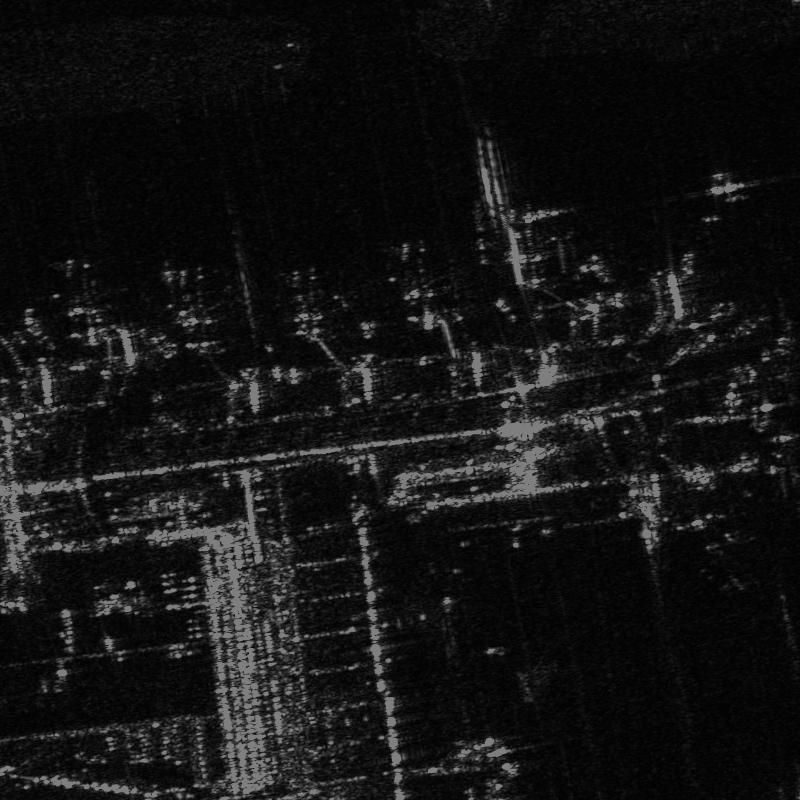A220: (45, 257, 133, 345), (156, 264, 238, 355), (272, 261, 353, 345), (381, 239, 451, 327)
